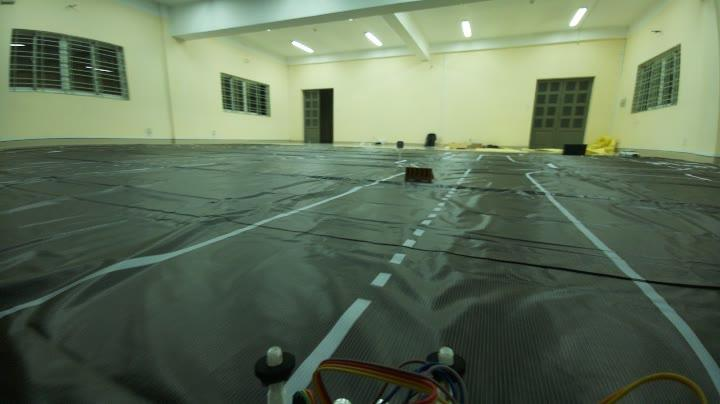roadblock: (402, 164, 435, 186)
